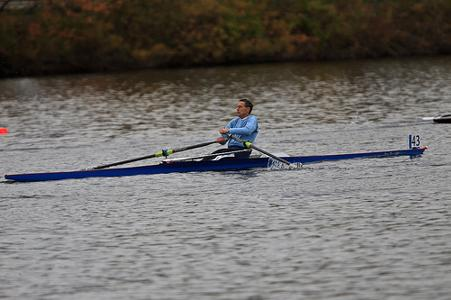person: (203, 99, 261, 163)
